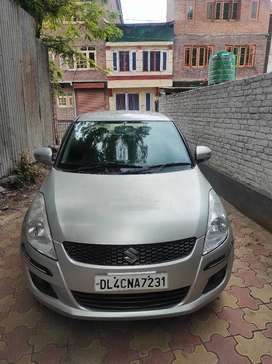DL4CNA7231: (94, 272, 168, 291)
